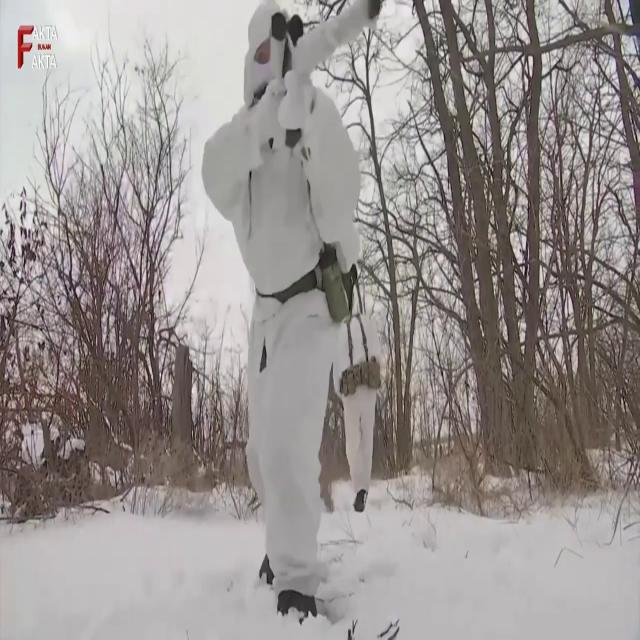Human: (200, 1, 385, 625), (330, 298, 382, 511)
